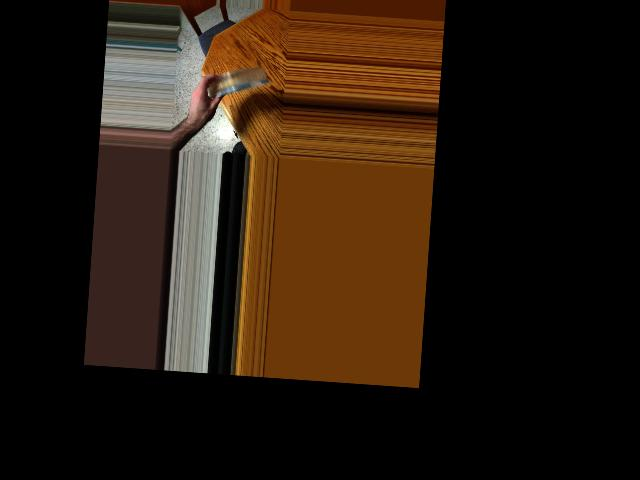cheese: (201, 66, 270, 95)
